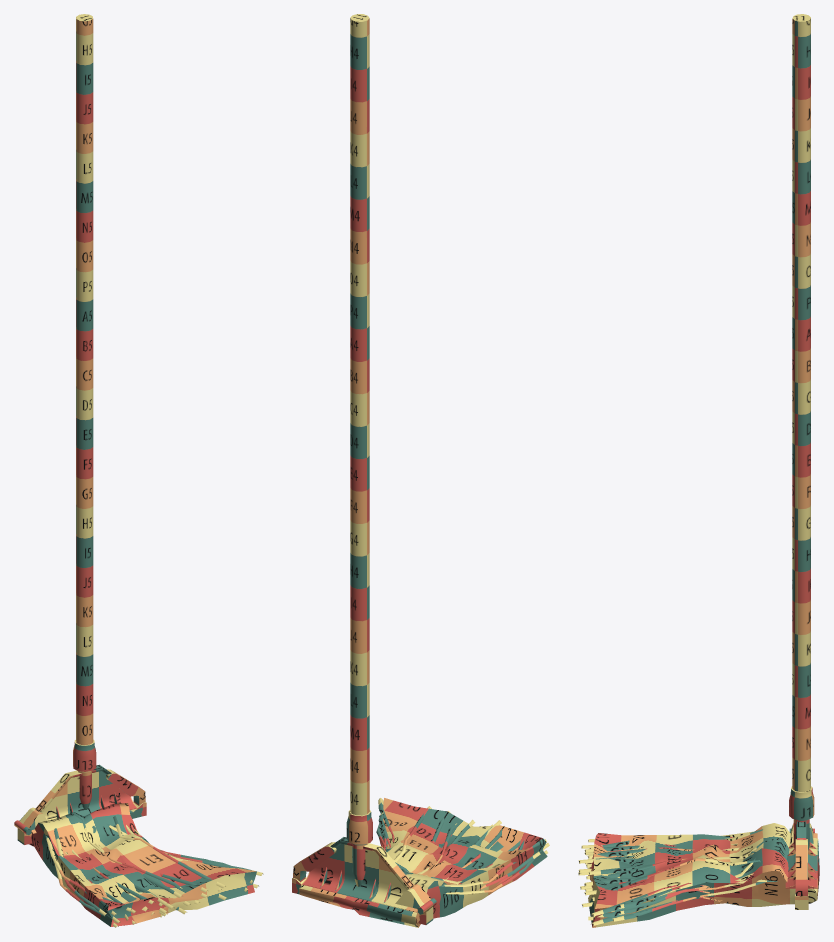
File: SM_Mop_01c.fbx
3 renders of one model, left to right at view 1: azimuth 30°, elevation 25°; view 2: azimuth 150°, elevation 25°; view 3: azimuth 270°, elevation 25°, orthographic. The views are drawn at different scales.
Parts seen in each view (by area): view 1: SM_Mop_01c; view 2: SM_Mop_01c; view 3: SM_Mop_01c.
Boxes of the visible parts, bbox=[...] form: SM_Mop_01c: bbox=[14, 14, 263, 927]; SM_Mop_01c: bbox=[292, 14, 549, 927]; SM_Mop_01c: bbox=[578, 14, 819, 927].
Bounding box in the file's own units: 31.42 × 157 × 39.18.
Materials: 1 (1 with a texture image).
